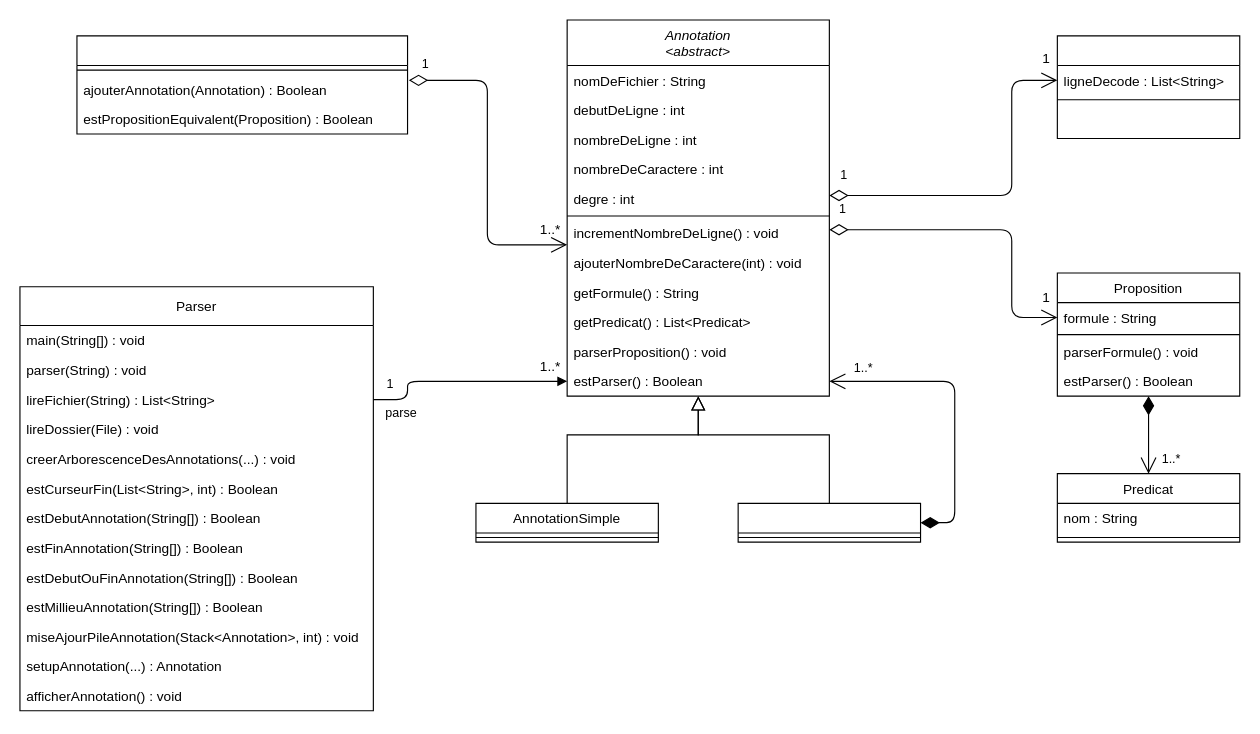
This 1260x734 diagram has some shape labels left out. The box of each missing label's shape, as (x1, y1, x2, y2) in pixels:
AnnotationComposer: (737, 502, 921, 542)
AnnotationGroupe: (76, 35, 408, 134)
CodeVariant: (1056, 35, 1240, 139)
